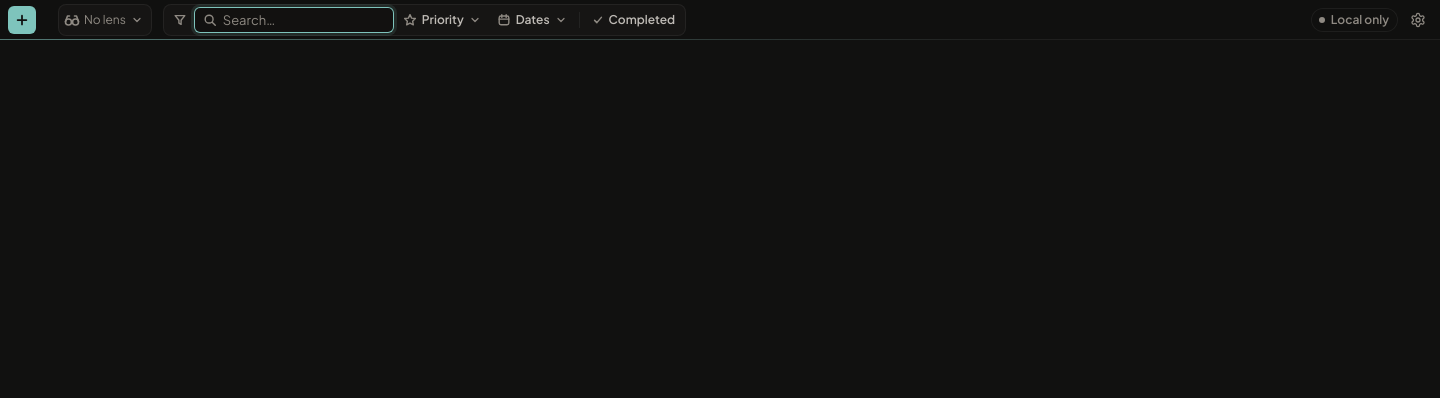
Test: TopBar search right-click — dropdown survival › keeps the listbox mounted when a row is right-clicked
Type "buy" into the field with placeholder "Search…" at x=294, y=20, box top-left (194, 6), bottom-right (394, 32)
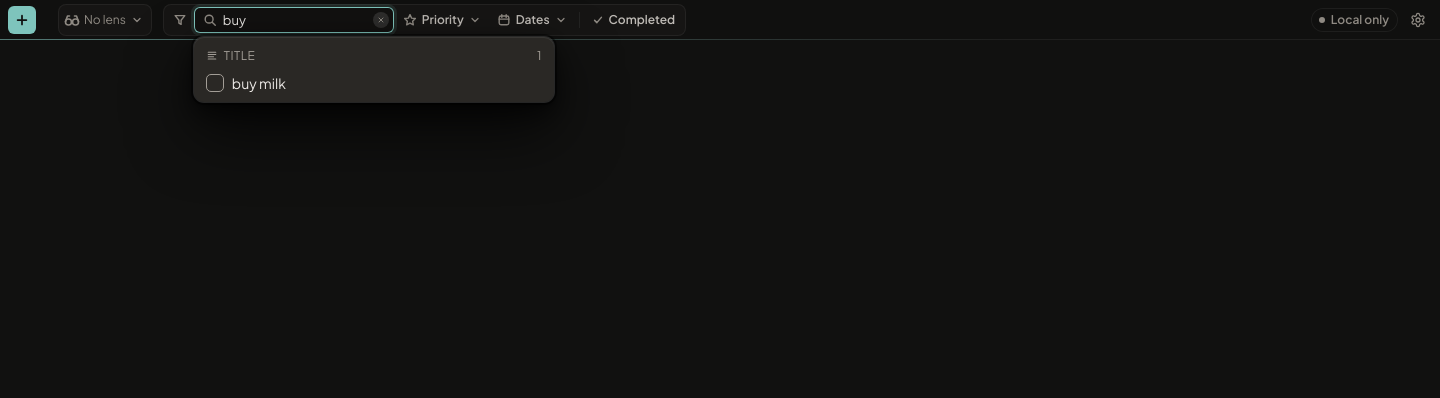
Right-click the option "buy milk" at x=259, y=82, box top-left (232, 74), bottom-right (542, 92)
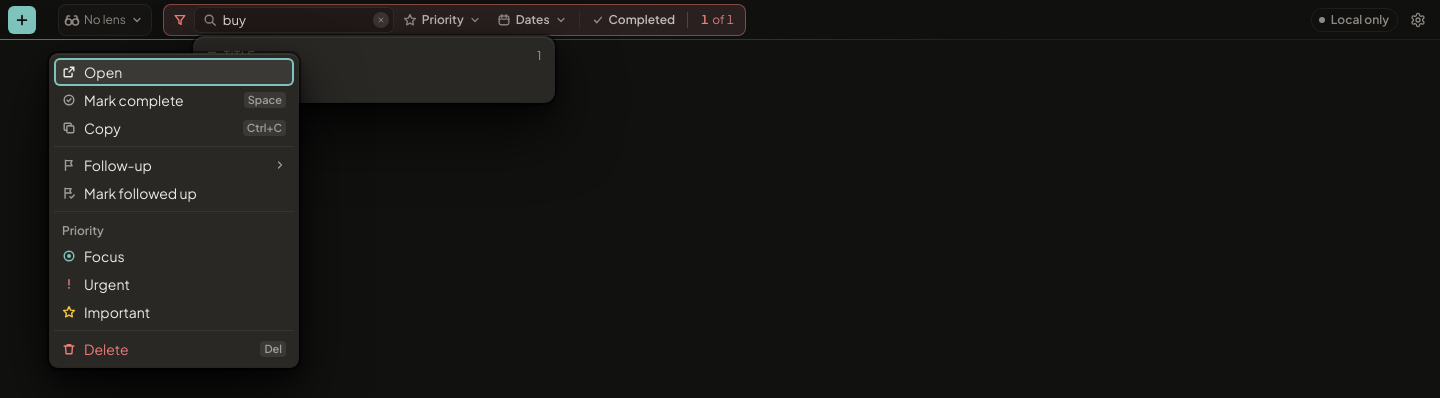
Now the menu item "Open" is shown, box top-left (54, 58), bottom-right (294, 86)
Now the menu item "Mark complete Space" is shown, box top-left (54, 86), bottom-right (294, 114)
